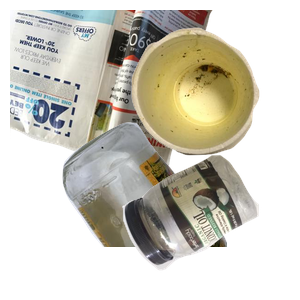glass: (60, 120, 300, 300)
paper: (10, 10, 215, 186)
plastic: (120, 152, 300, 300)
trash: (129, 25, 300, 173)
